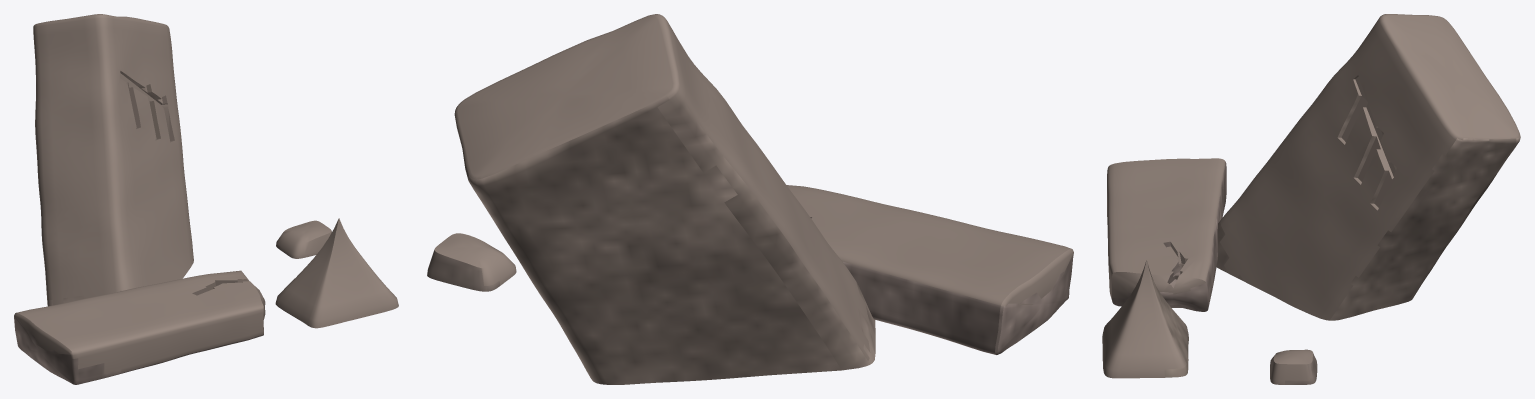
File: VerHenge06.glb
3 views of the same model, side by side, from view 1: azimuth 30°, elevation 25°; view 2: azimuth 150°, elevation 25°; view 3: azimuth 270°, elevation 25° (orthographic). The views are drawn at different scales.
Visible parts, largest first — view 1: VerHenge06; view 2: VerHenge06; view 3: VerHenge06.
Boxes of the visible parts, x1,y1,x2,y2 form: VerHenge06: (14,14,398,384); VerHenge06: (427,14,1073,384); VerHenge06: (1102,14,1520,384).
Size of the model in its own units: 4.02 by 2.69 by 3.8.
Materials: 2 (1 with a texture image).
